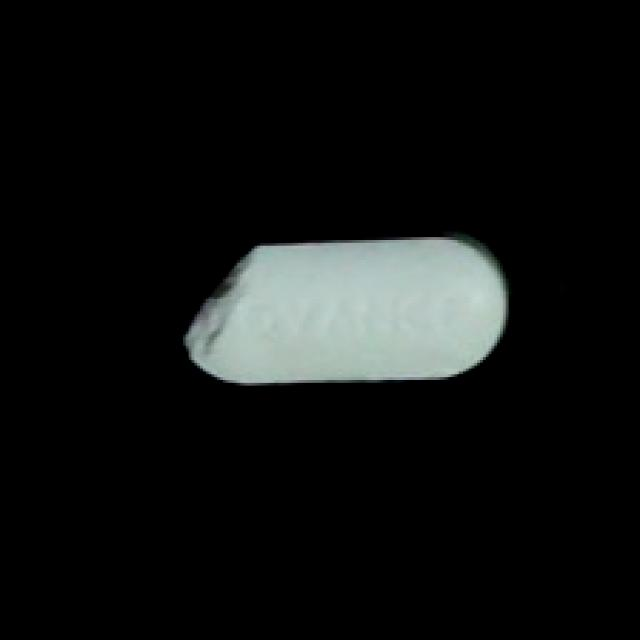defected: (177, 223, 511, 391)
